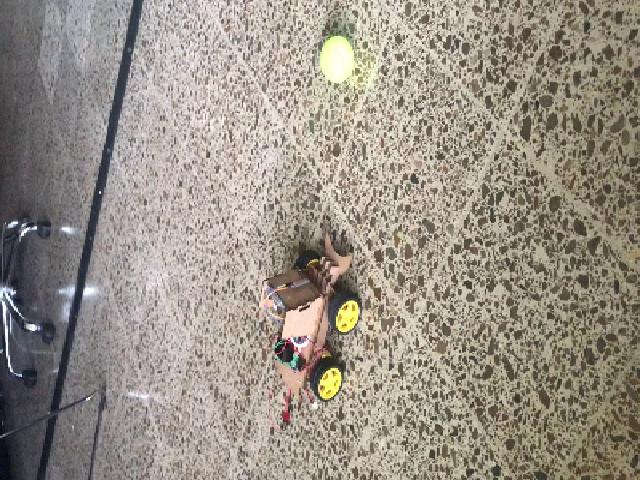Ball: (318, 36, 354, 82)
Robot: (258, 234, 362, 401)
